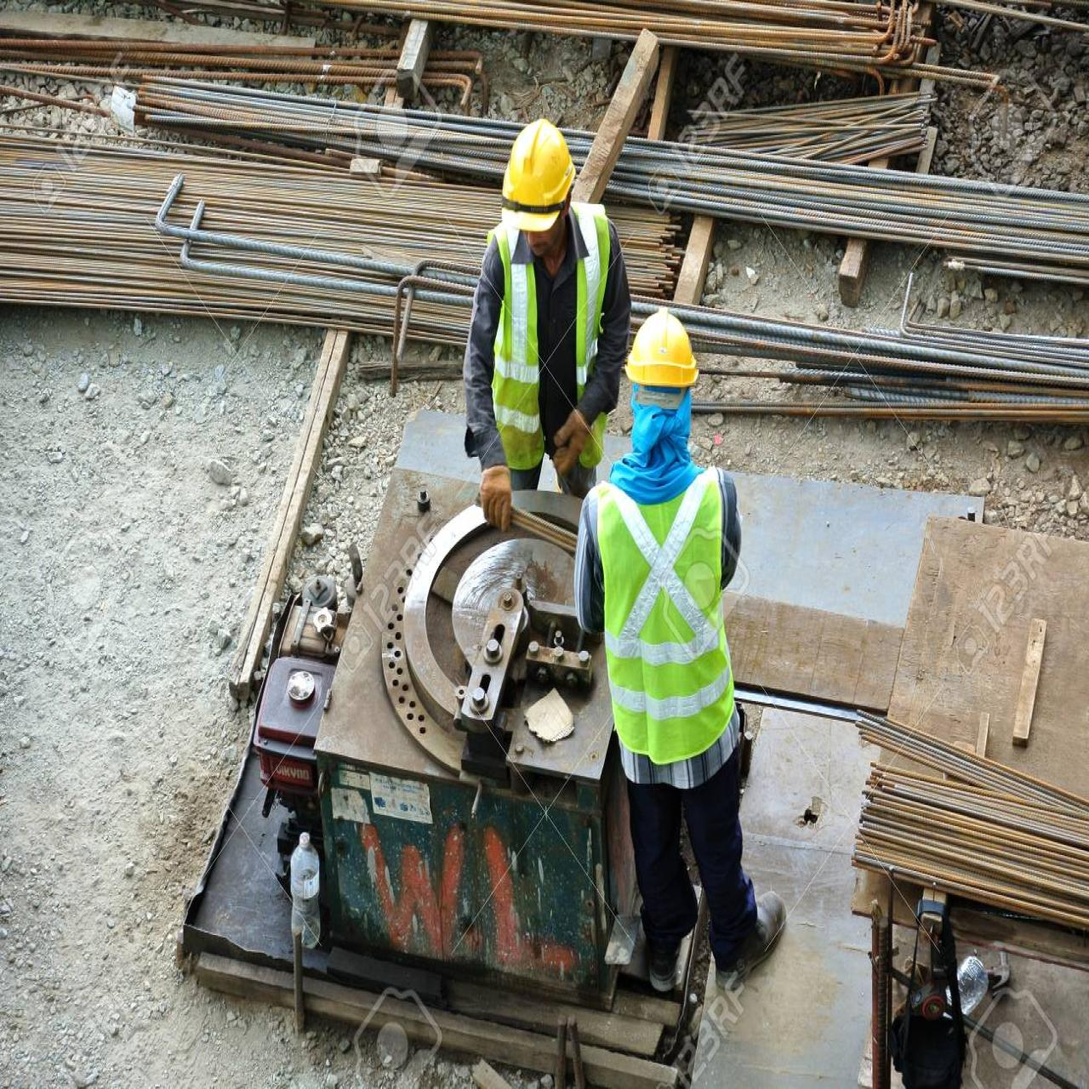Person: (559, 297, 807, 983), (447, 111, 644, 537)
Safety_Vest: (582, 459, 739, 777), (479, 217, 608, 473)
